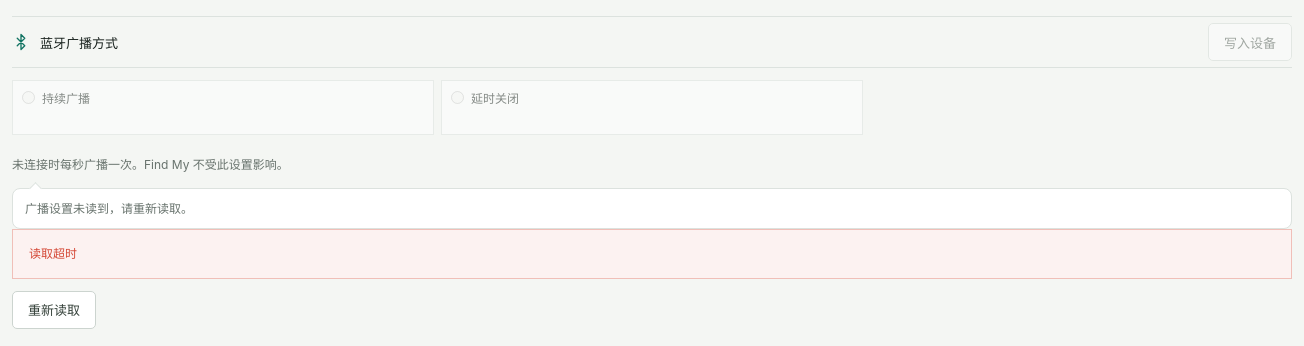
Test: keeps read failures visible and permits an explicit read-only retry
The image size is (1304, 346).
Expected: the message "读取超时" is shown, x1=12 y1=229 x2=1292 y2=279
Expected: the button "写入设备" is disabled, x1=1208 y1=23 x2=1292 y2=61
Click the button "重新读取".
click(54, 310)  # box x1=12 y1=291 x2=96 y2=329
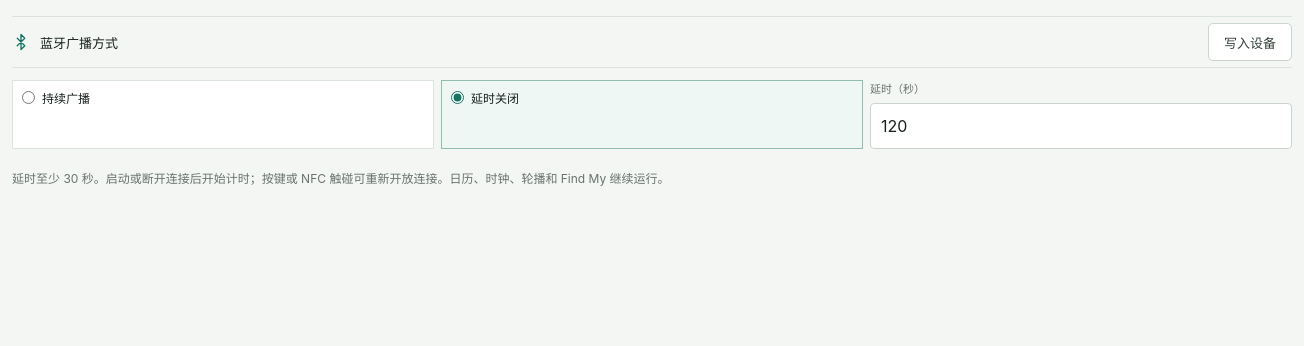
Expected: the radio button labelled "延时关闭" holds "delayed", x1=451 y1=91 x2=464 y2=104
Now the button "写入设备" is enabled, box x1=1208 y1=23 x2=1292 y2=61
